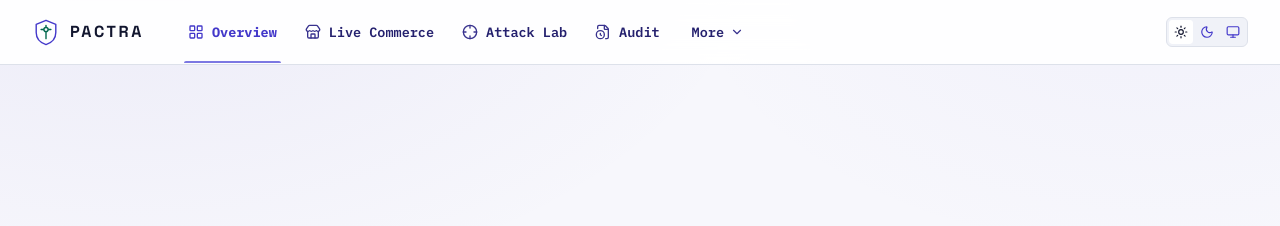
Test case: Navbar (Phase 2 App Shell) › 13. Keyboard interactions: menu items close when clicked
The image size is (1280, 226).
Click the button with aria-label "Secondary navigation options" at [718, 32], box [680,14,756,50]
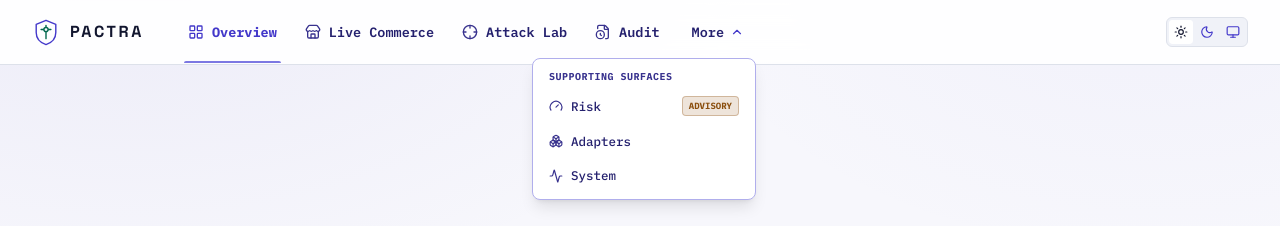
Click the menu item "Risk ADVISORY" at [586, 106], box [549,96,739,116]
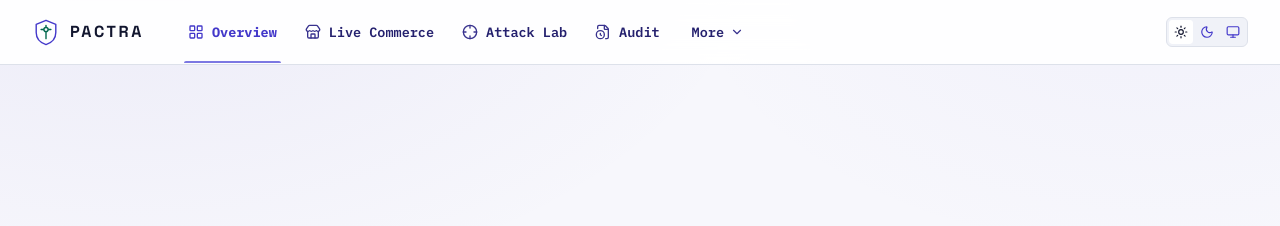
Expected: the menu item "Risk" is gone
